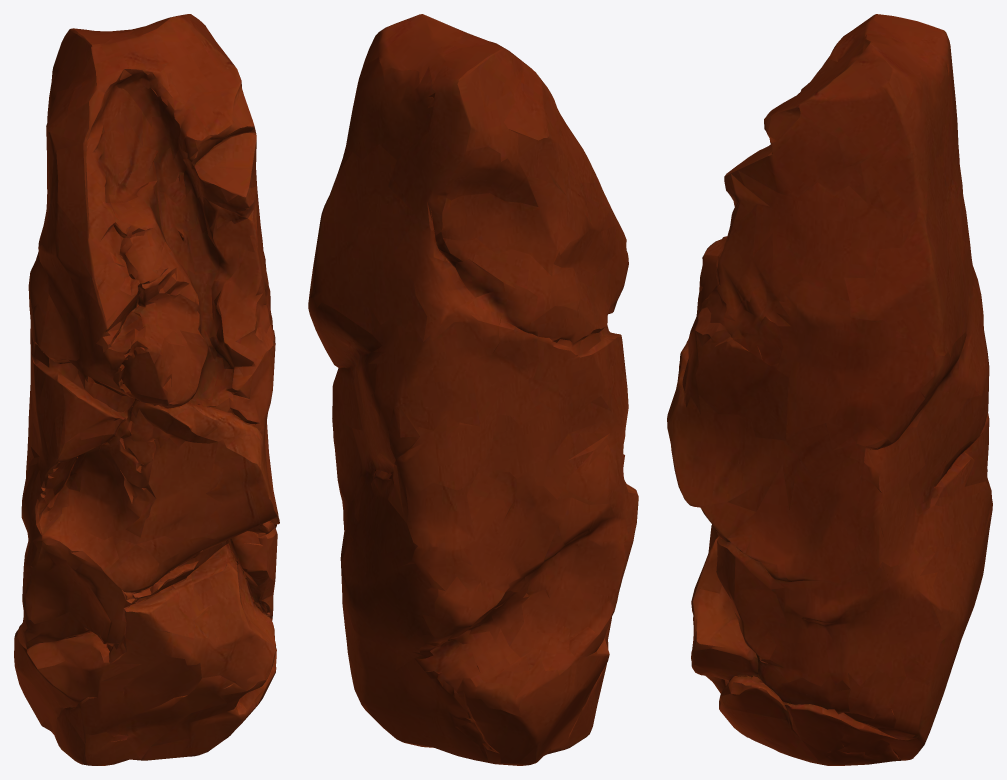
Rendered from min4-ochre-final.glb.
3 renders of one model, left to right at view 1: azimuth 30°, elevation 25°; view 2: azimuth 150°, elevation 25°; view 3: azimuth 270°, elevation 25°, orthographic. The views are drawn at different scales.
Visible parts, largest first — view 1: Mesh_0; view 2: Mesh_0; view 3: Mesh_0.
Boxes of the visible parts, box(x1,y1,x2,y2) form: Mesh_0: box(14, 14, 279, 765); Mesh_0: box(308, 14, 638, 765); Mesh_0: box(667, 14, 992, 765).
Size of the model in its own units: 0.0469 by 0.12 by 0.0495.
Materials: 1 (1 with a texture image).
